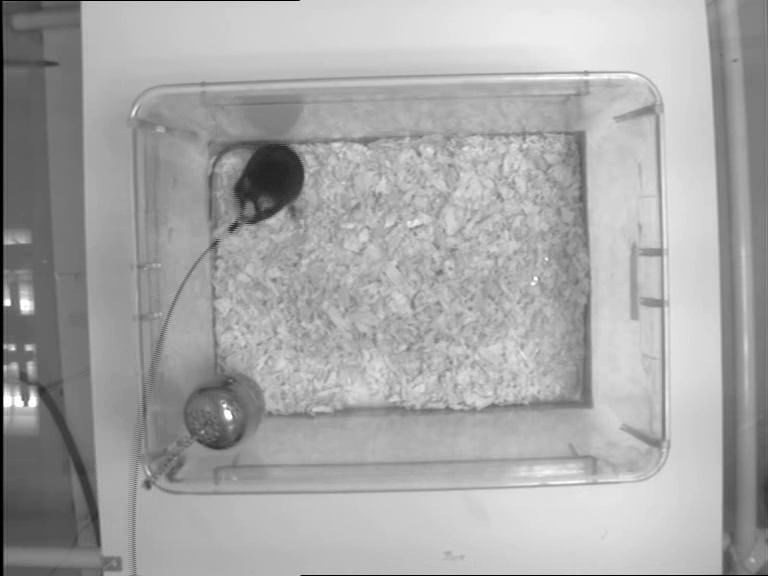mice: (201, 139, 304, 227)
